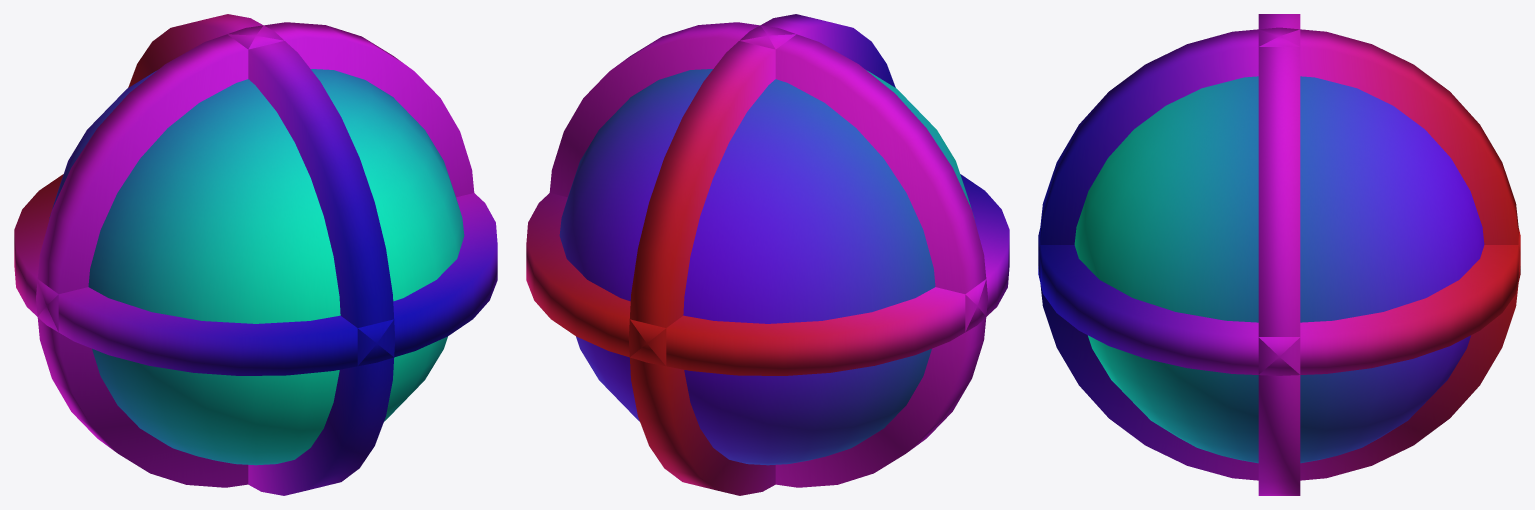
The model's file is Ball-11.dae.
The picture shows the model from 3 angles, left to right: view 1: azimuth 30°, elevation 25°; view 2: azimuth 150°, elevation 25°; view 3: azimuth 270°, elevation 25°; orthographic projection.
Visible parts, largest first — view 1: Ball; view 2: Ball; view 3: Ball.
Part boxes in pixels (x1,y1,x2,y2): Ball: (14, 14, 497, 495); Ball: (526, 14, 1009, 495); Ball: (1038, 14, 1520, 495).
Size of the model in its own units: 0.046 by 0.046 by 0.046.
Materials: 2 (2 with a texture image).
